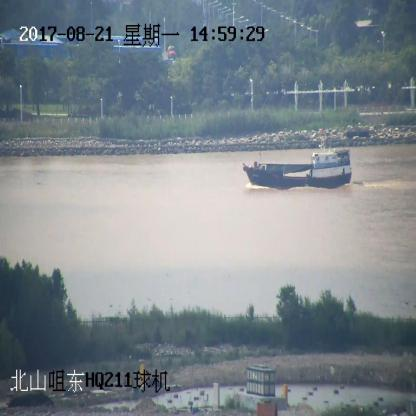Fishing Boat: (242, 131, 353, 191)
